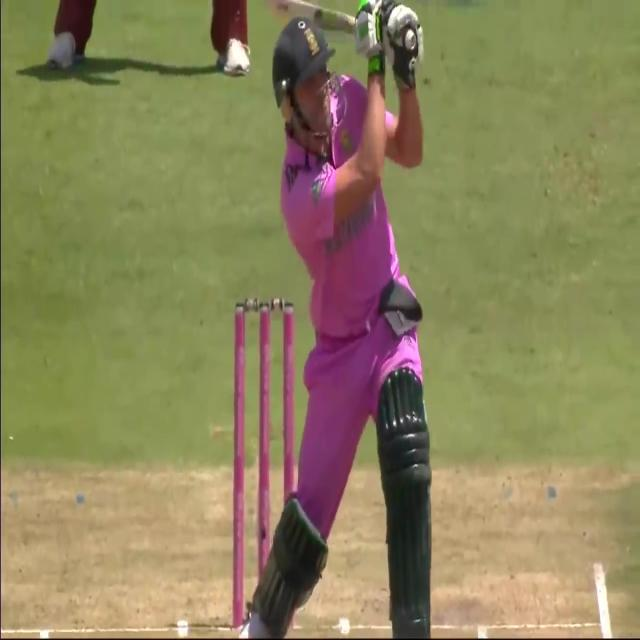Ball: (256, 1, 429, 639)
